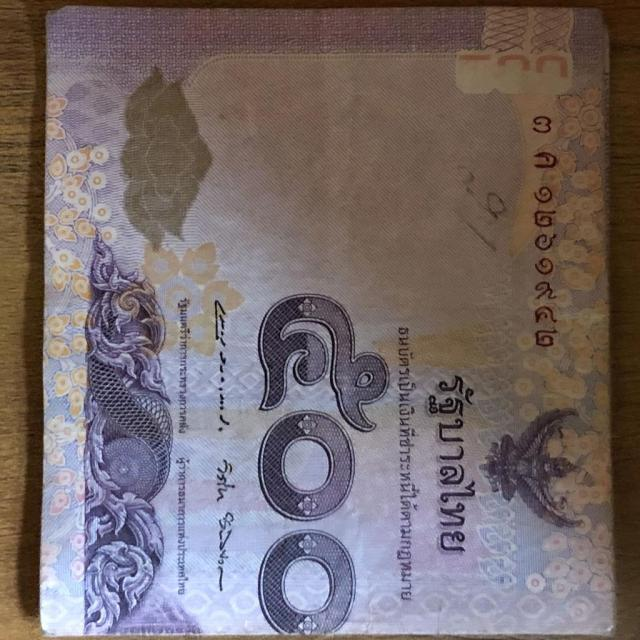THAI500: (40, 7, 614, 635)
